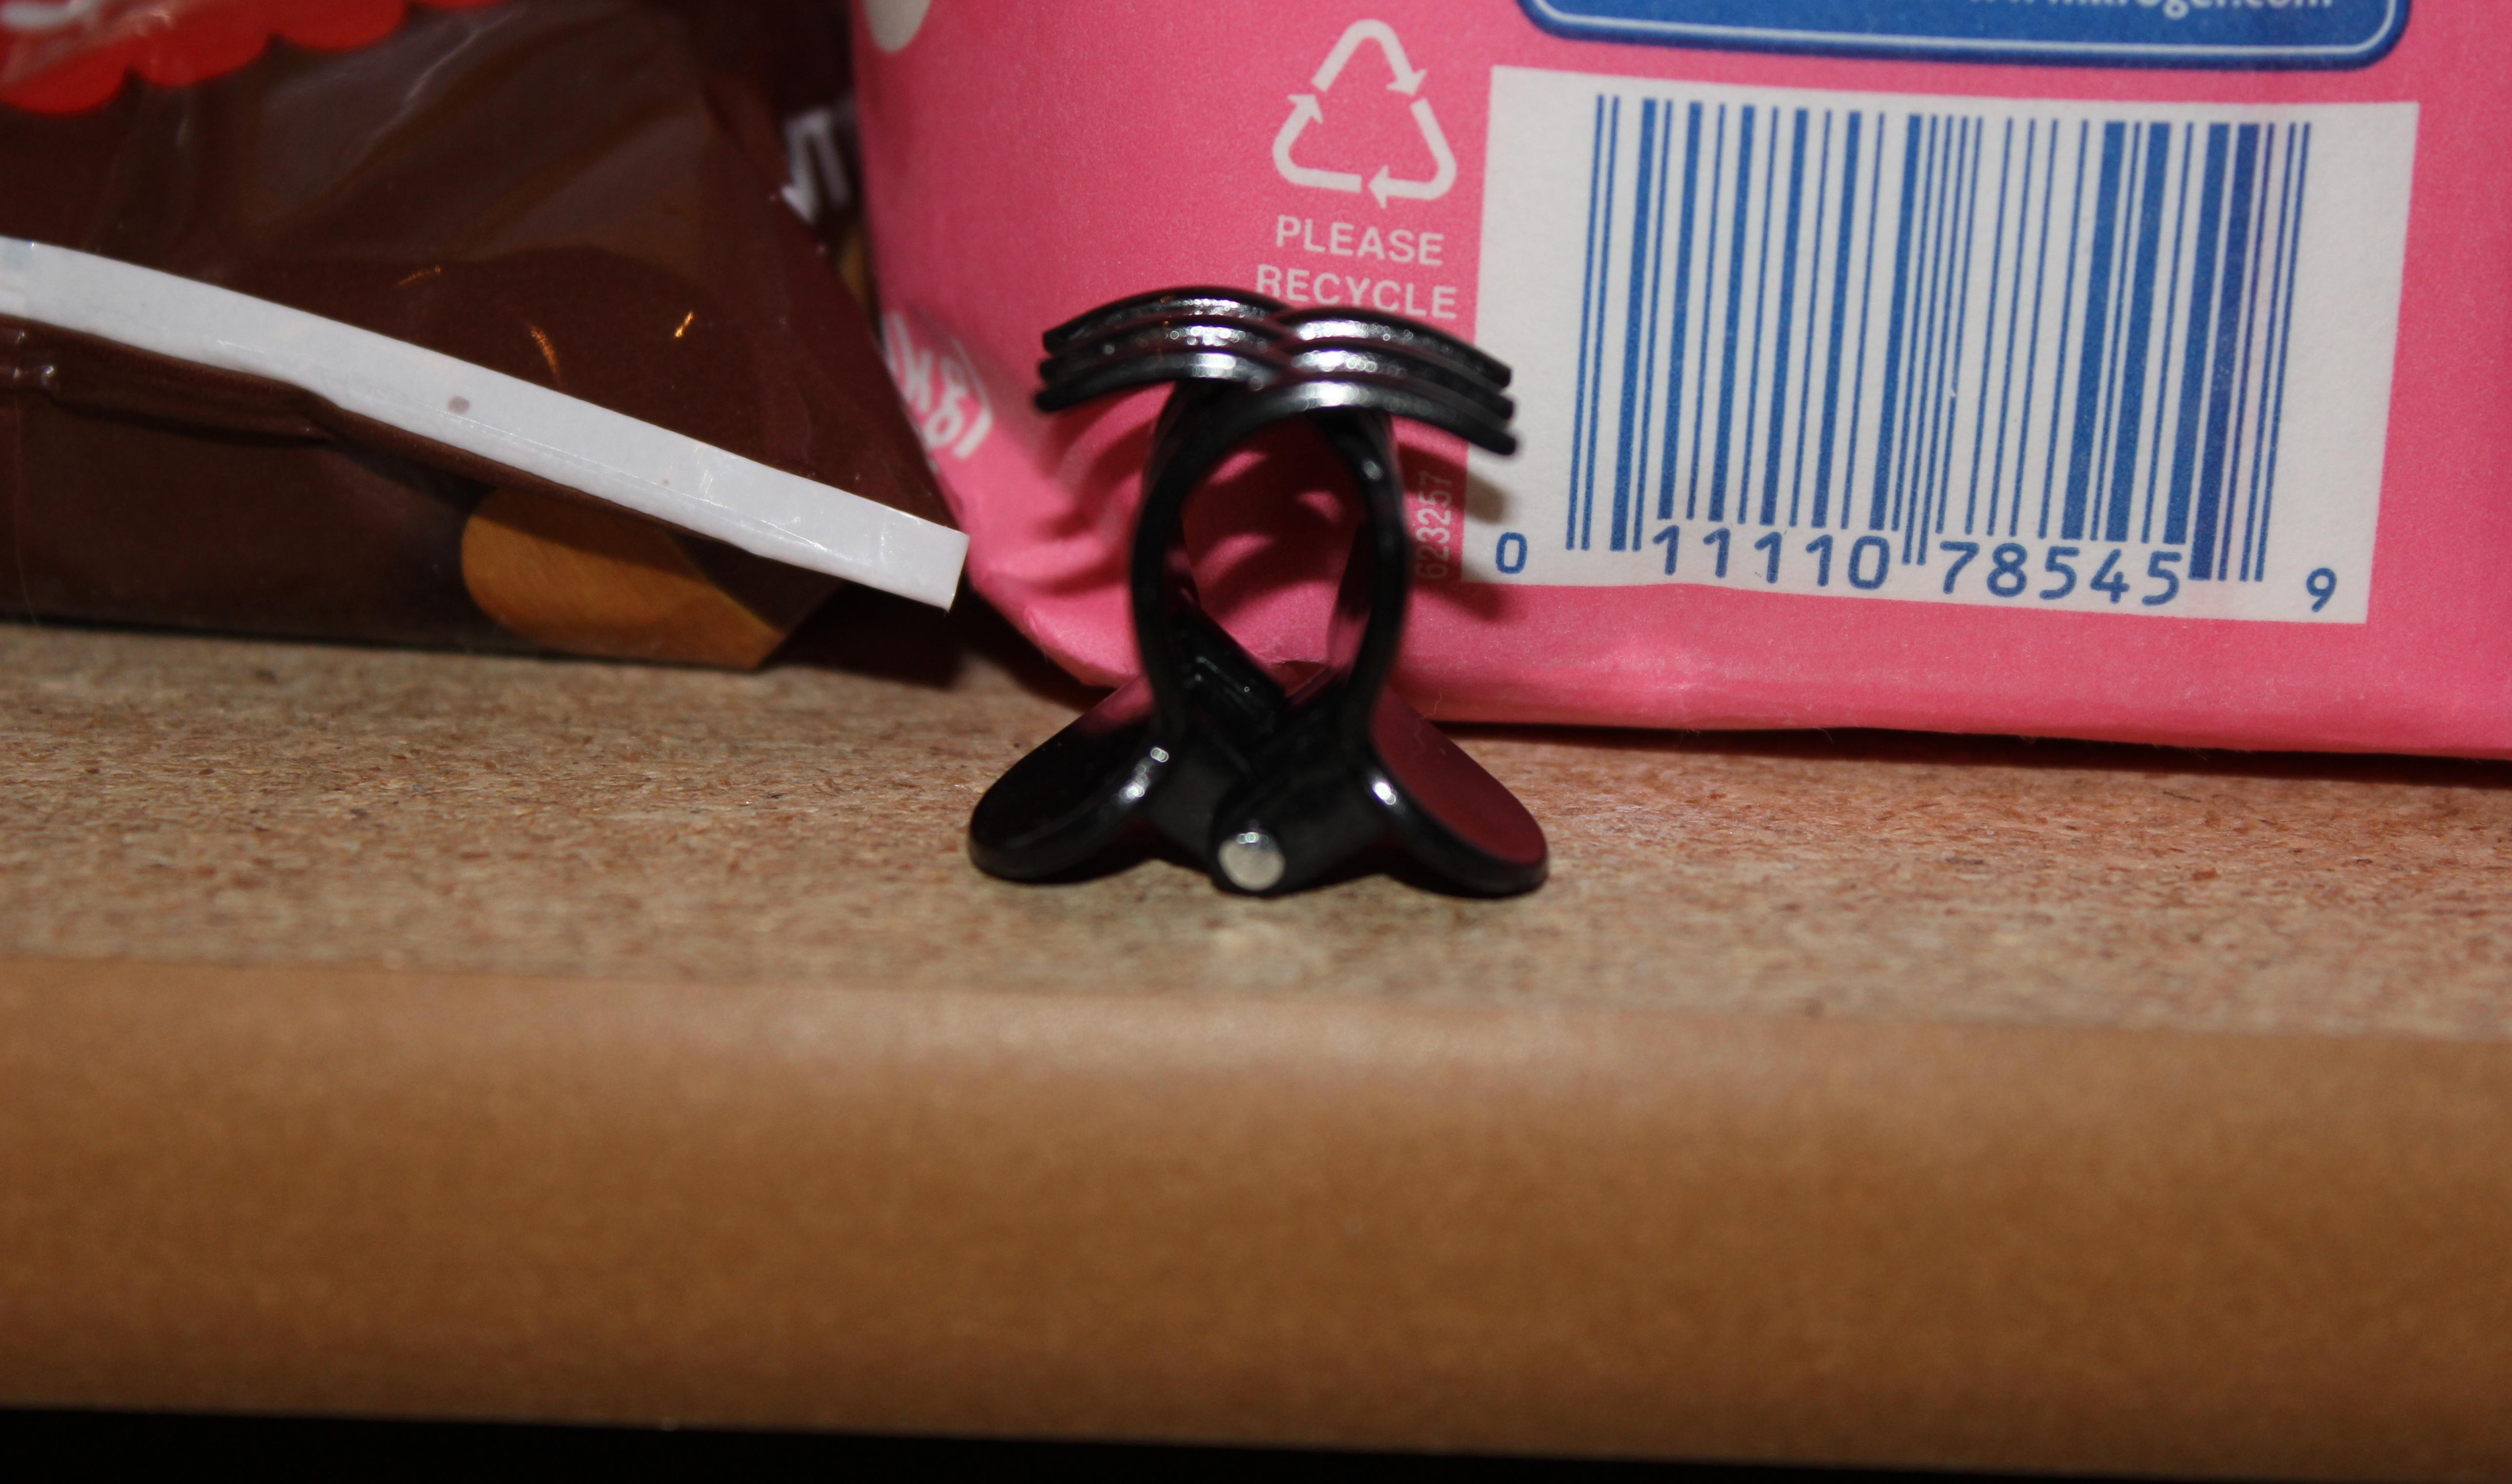hairClip: (917, 253, 1631, 952)
